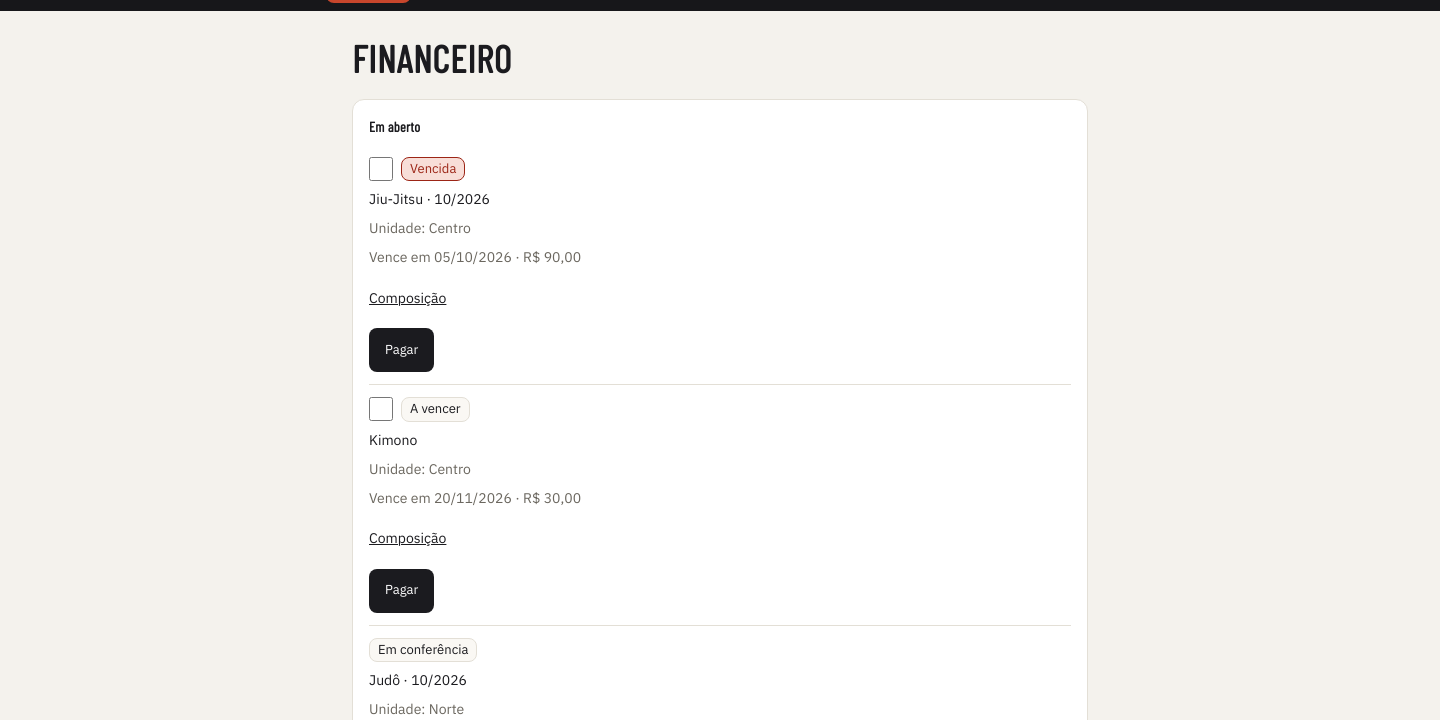
PortalFinancePage (RF-POR-05) › CA9: unidades diferentes mostram o aviso e desabilitam Pagar selecionadas; desmarcar libera
The width and height of the screenshot is (1440, 720).
Step 1. Click the checkbox named "Selecionar Jiu-Jitsu · 10/2026" → (381, 169), box [369,157,393,181]
(page scrolled)
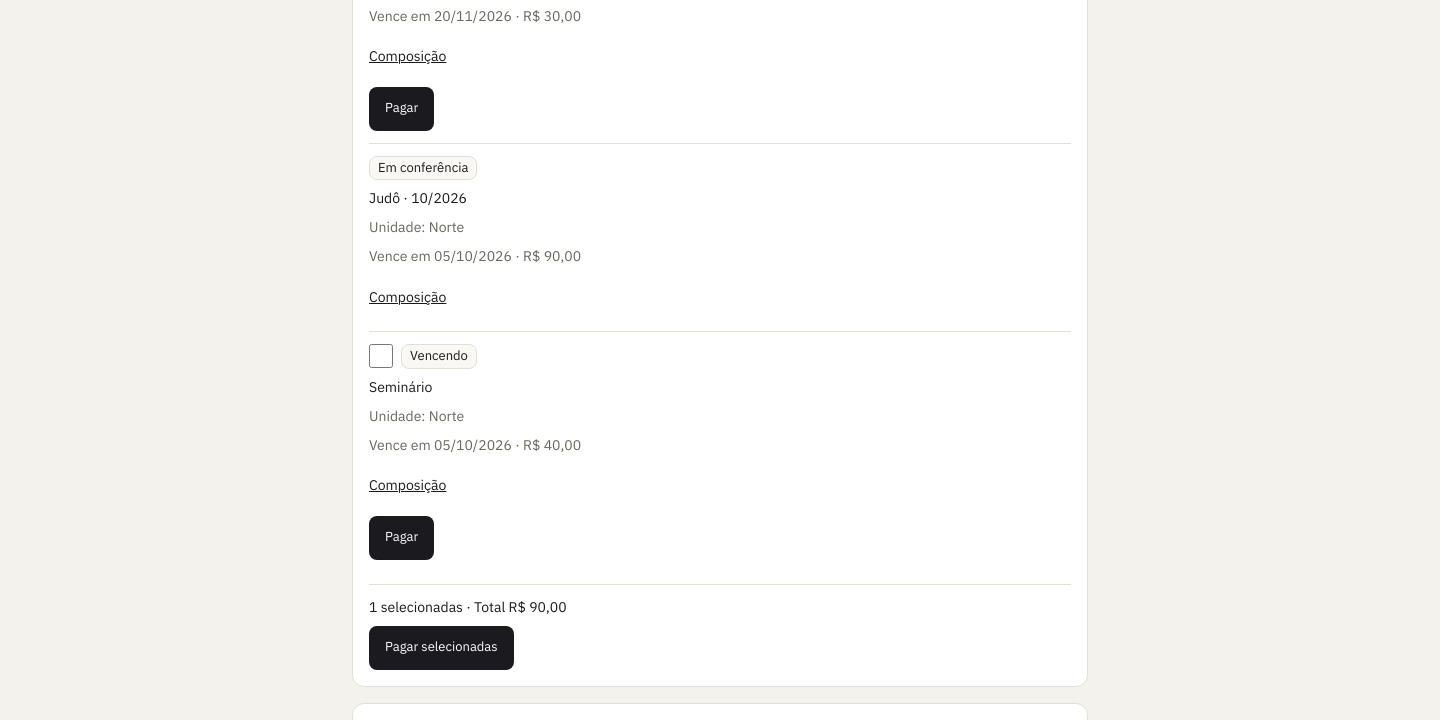
Step 2. Click the checkbox named "Selecionar Seminário" → (381, 356), box [369,344,393,368]
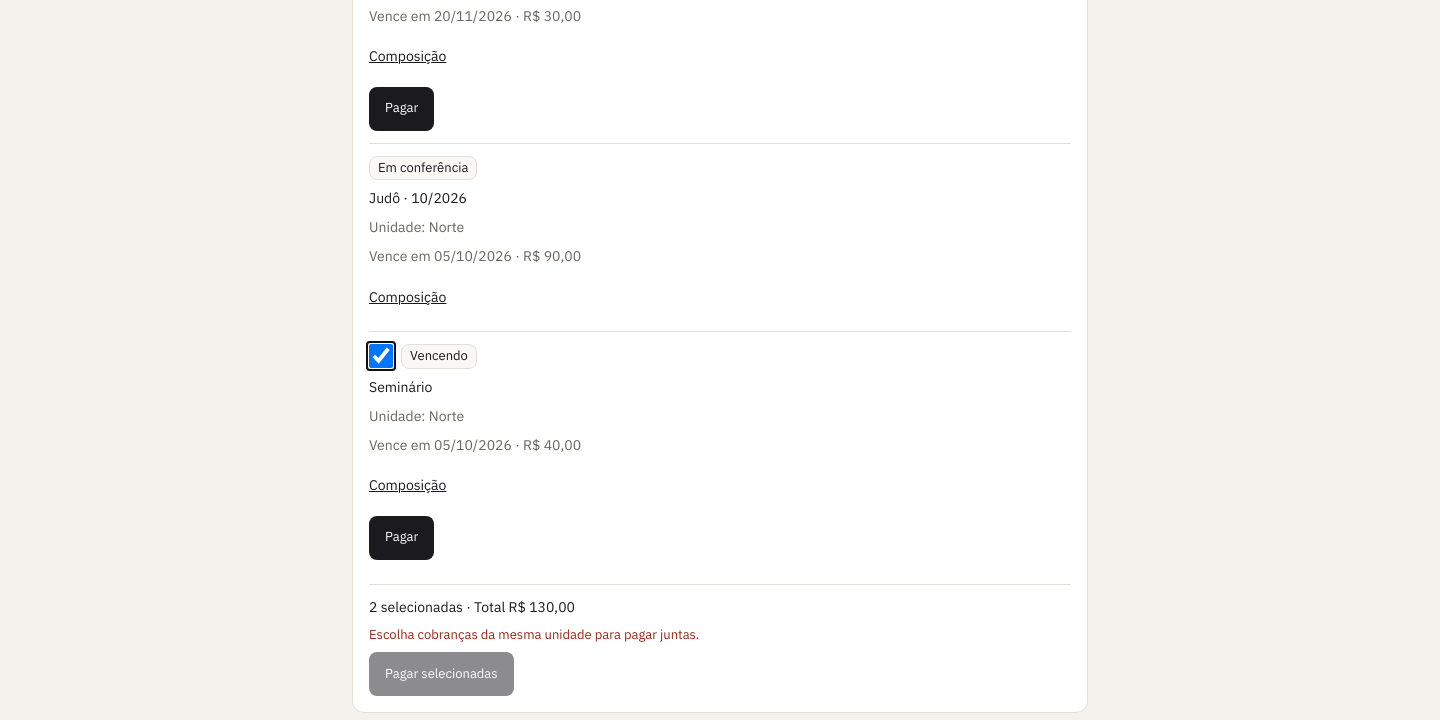
Check: the message "Escolha cobranças da mesma unidade para pagar juntas." is shown, box [369,626,699,643]
Check: the button "Pagar selecionadas" is disabled, box [369,652,514,696]
Step 3. Click the checkbox named "Selecionar Seminário" → (381, 356), box [369,344,393,368]
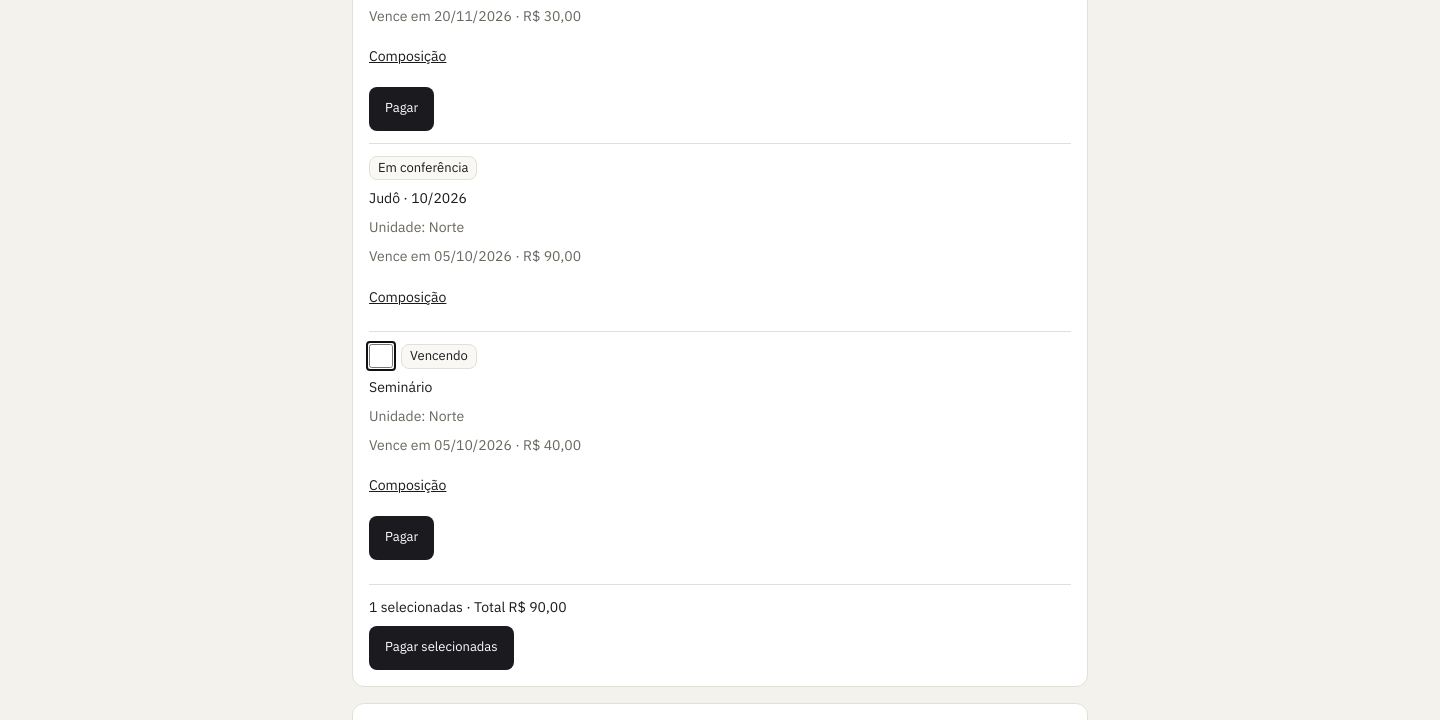
Check: the message "Escolha cobranças da mesma unidade para pagar juntas." is gone
Check: the button "Pagar selecionadas" is enabled, box [369,626,514,670]
